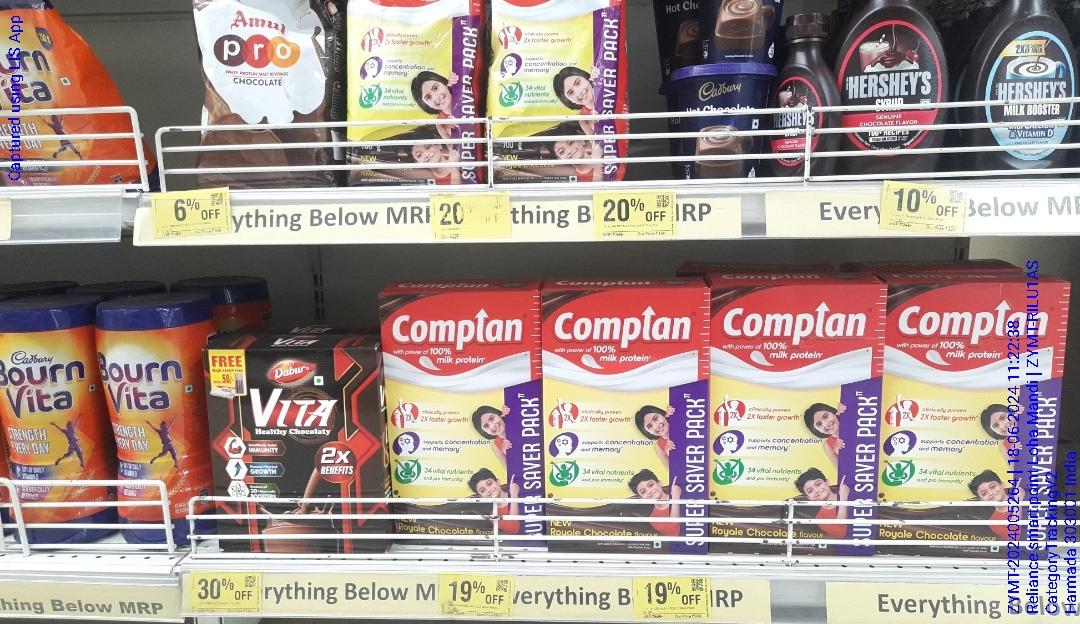BOURN_VITA_1_KG_JAR: (103, 307, 207, 546), (1, 309, 97, 555)
COMPLAN_CHOCOLATE_1_KG_PACK: (887, 286, 1051, 559), (712, 288, 878, 554), (550, 288, 707, 551), (392, 298, 543, 542)
COMPLAN_RC_POUCH_700_GMS_12: (345, 0, 484, 183), (489, 2, 622, 180)
